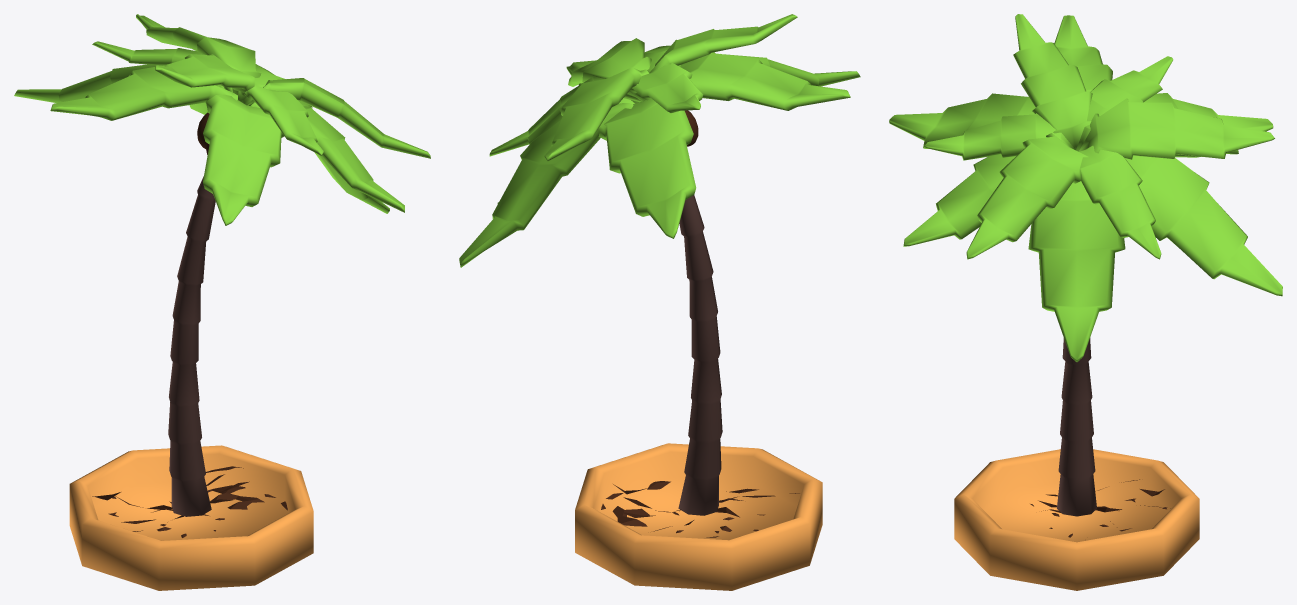
The model's file is palm tree dirt(1).fbx.
3 renders of one model, left to right at view 1: azimuth 30°, elevation 25°; view 2: azimuth 150°, elevation 25°; view 3: azimuth 270°, elevation 25°, orthographic. The views are drawn at different scales.
Visible parts, largest first — view 1: Circle.004, Circle.002, Plane.028, Plane.027, Plane.030, Plane.029, Plane.032, Plane.035, Plane.034, Plane.026, Circle.003, Plane.033 (+1 smaller); view 2: Circle.004, Circle.002, Plane.026, Plane.025, Plane.027, Plane.032, Plane.034, Plane.033, Plane.030, Circle.003, Plane.031, Plane.028; view 3: Circle.004, Plane.024, Plane.025, Plane.032, Plane.030, Plane.034, Circle.002, Plane.031, Plane.029, Plane.028, Plane.035, Plane.033 (+2 smaller).
Part boxes in pixels (x1=…): Circle.004: x1=69, y1=445, x2=313, y2=590; Circle.002: x1=168, y1=176, x2=215, y2=516; Plane.028: x1=203, y1=94, x2=284, y2=225; Plane.027: x1=50, y1=65, x2=237, y2=120; Plane.030: x1=249, y1=78, x2=430, y2=158; Plane.029: x1=251, y1=102, x2=404, y2=212; Plane.032: x1=136, y1=14, x2=261, y2=77; Plane.035: x1=238, y1=85, x2=323, y2=155; Plane.034: x1=155, y1=54, x2=254, y2=105; Plane.026: x1=14, y1=64, x2=221, y2=103; Circle.003: x1=92, y1=466, x2=287, y2=537; Plane.033: x1=92, y1=41, x2=232, y2=92; Circle.004: x1=575, y1=443, x2=822, y2=590; Circle.002: x1=678, y1=195, x2=722, y2=515; Plane.026: x1=598, y1=99, x2=696, y2=238; Plane.025: x1=459, y1=103, x2=633, y2=267; Plane.027: x1=682, y1=52, x2=850, y2=110; Plane.032: x1=544, y1=67, x2=649, y2=160; Plane.034: x1=649, y1=14, x2=797, y2=73; Plane.033: x1=629, y1=63, x2=703, y2=112; Plane.030: x1=566, y1=38, x2=651, y2=86; Circle.003: x1=601, y1=481, x2=799, y2=537; Plane.031: x1=489, y1=76, x2=641, y2=156; Plane.028: x1=680, y1=54, x2=860, y2=86; Circle.004: x1=954, y1=449, x2=1199, y2=590; Plane.024: x1=1028, y1=181, x2=1125, y2=361; Plane.025: x1=1125, y1=155, x2=1282, y2=296; Plane.032: x1=1078, y1=98, x2=1274, y2=159; Plane.030: x1=966, y1=133, x2=1088, y2=259; Plane.034: x1=1013, y1=14, x2=1092, y2=149; Circle.002: x1=1057, y1=338, x2=1096, y2=516; Plane.031: x1=1079, y1=145, x2=1161, y2=259; Plane.029: x1=903, y1=154, x2=1015, y2=246; Plane.028: x1=889, y1=93, x2=1035, y2=148; Plane.035: x1=924, y1=113, x2=1075, y2=160; Plane.033: x1=1076, y1=56, x2=1173, y2=151.
Size of the model in its own units: 2397 by 3413 by 2462.
